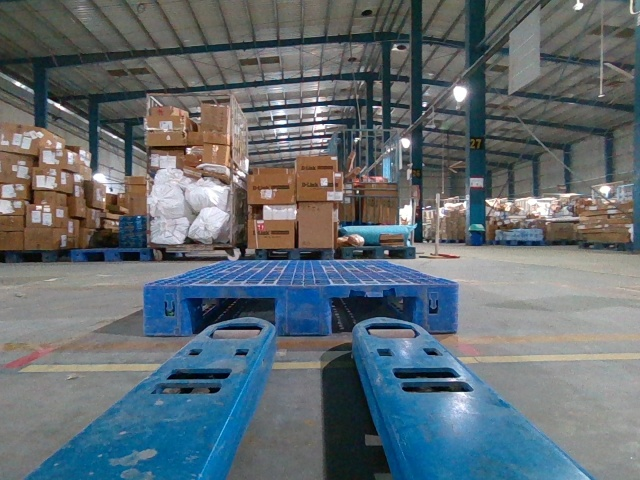block: (273, 283, 332, 334), (145, 284, 193, 334), (415, 284, 457, 334)
front: (143, 282, 456, 334)
hole pallet: (327, 293, 425, 339), (190, 292, 276, 336)
